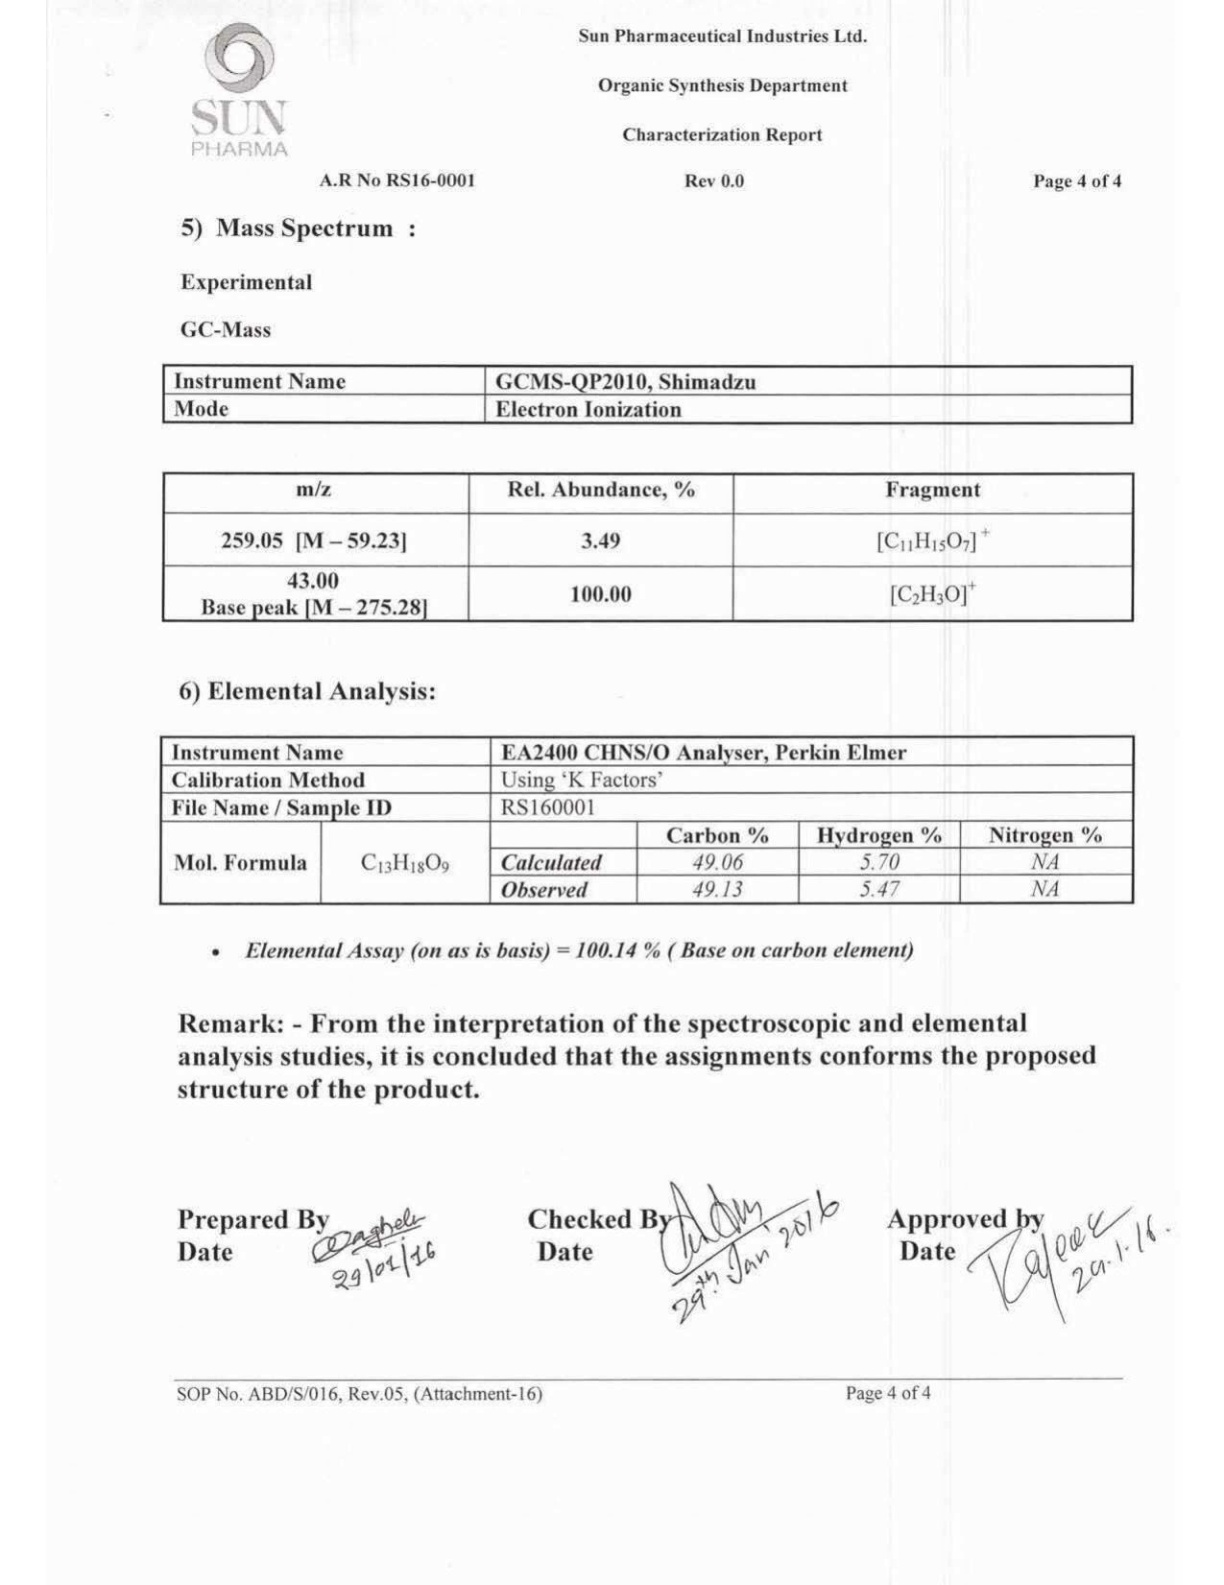full_lined: (159, 470, 1134, 623), (159, 363, 1133, 424)
merged_cells: (158, 735, 1137, 906)
